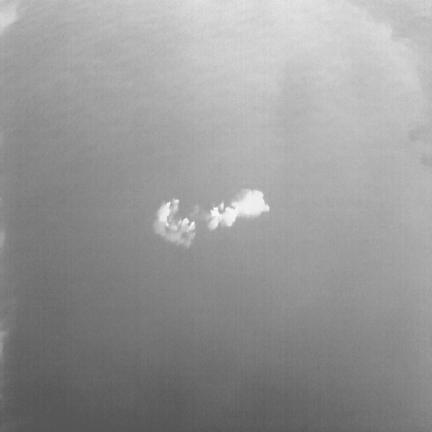flukeprints: (209, 189, 269, 229), (154, 199, 195, 246)
